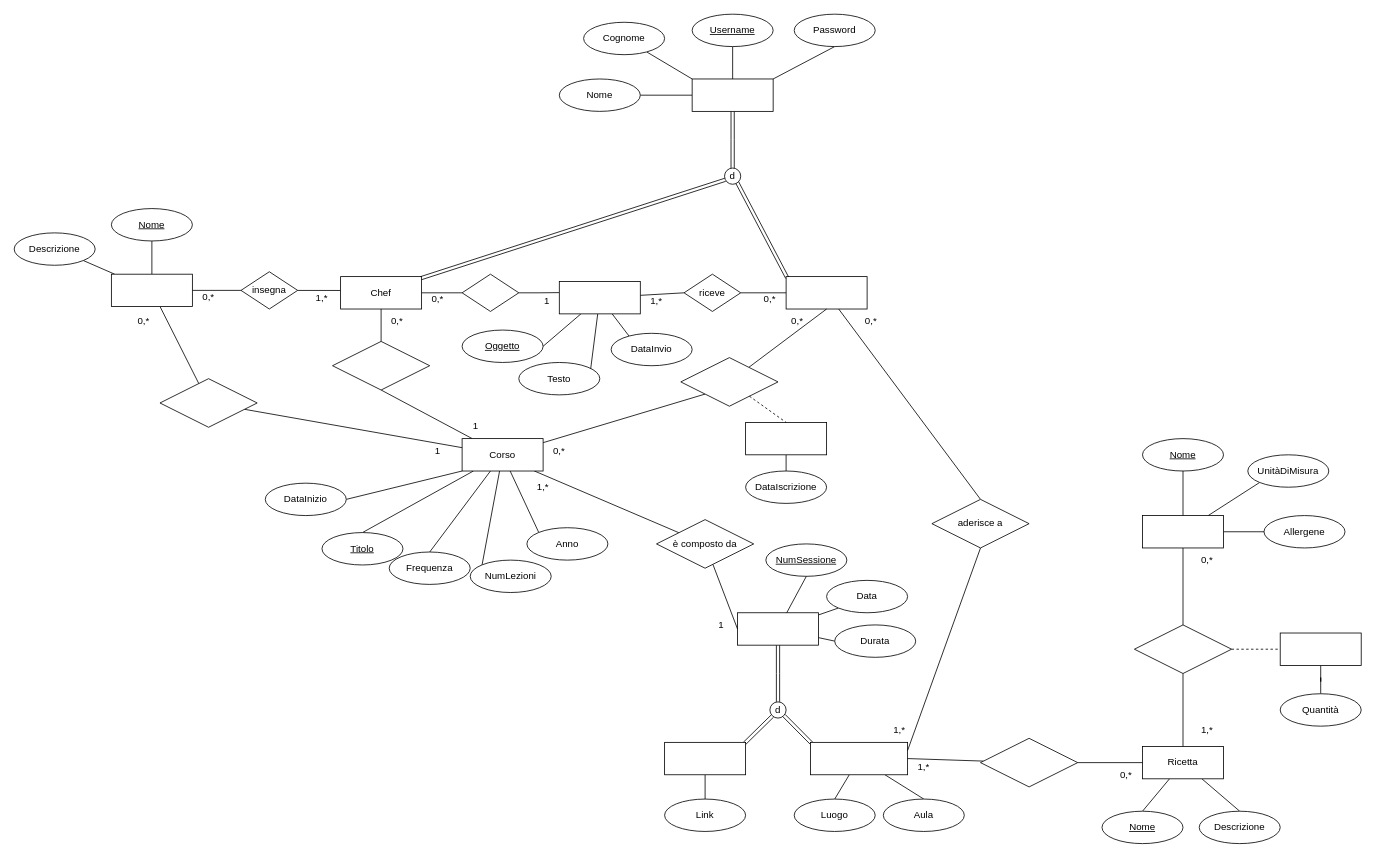
Image size: 1375x858. Some labels were removed from this diagram. Here are the shapes that lost their labels. From the top down, the centre of each, then its label:
pixel 732 94: Persona
pixel 151 290: Topic
pixel 490 292: invia
pixel 599 297: Notifica
pixel 826 292: Utente
pixel 381 365: tiene
pixel 729 381: è iscritto a
pixel 208 402: afferisce a
pixel 786 438: Iscrizione
pixel 1183 531: Ingrediente
pixel 778 628: Sessione
pixel 1320 648: Composizione
pixel 1183 649: è composta da
pixel 705 758: SessioneOnline
pixel 859 758: SessioneInPresenza
pixel 1029 762: si prepara
